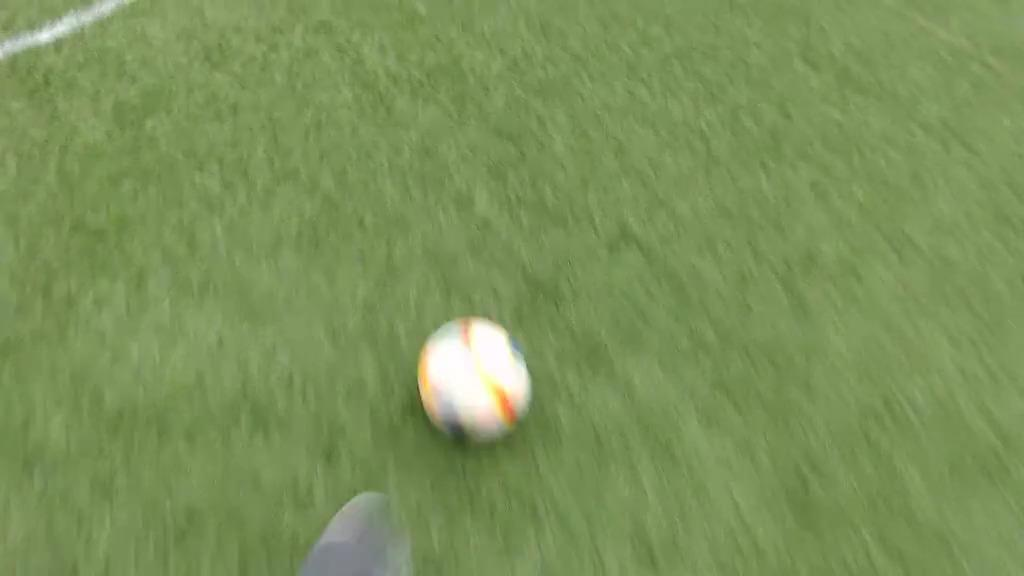ball: (416, 318, 533, 443)
